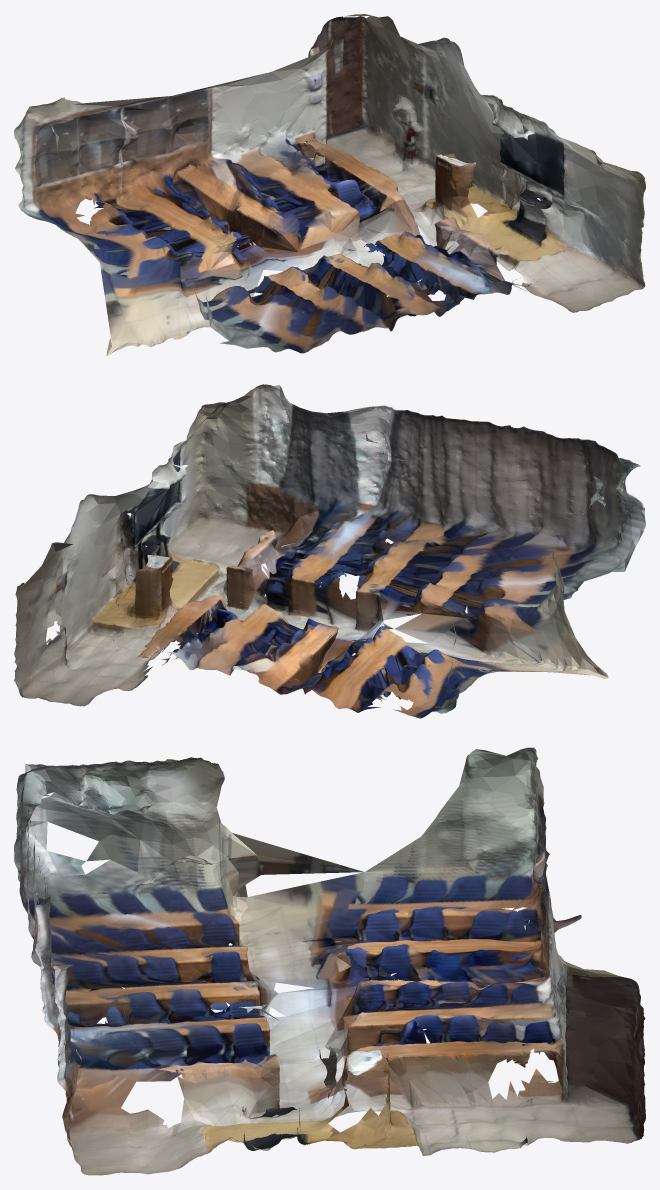
File: classroom.glb
3 renders of one model, top to bottom at view 1: azimuth 30°, elevation 25°; view 2: azimuth 150°, elevation 25°; view 3: azimuth 270°, elevation 25°, orthographic. The views are drawn at different scales.
Visible parts, largest first — view 1: mesh; view 2: mesh; view 3: mesh.
Part boxes in pixels (bbox=[...]): mesh: bbox=[14, 14, 645, 355]; mesh: bbox=[14, 384, 645, 718]; mesh: bbox=[14, 747, 645, 1175].
Size of the model in its own units: 9.59 by 3.08 by 9.21.
Materials: 1 (1 with a texture image).
